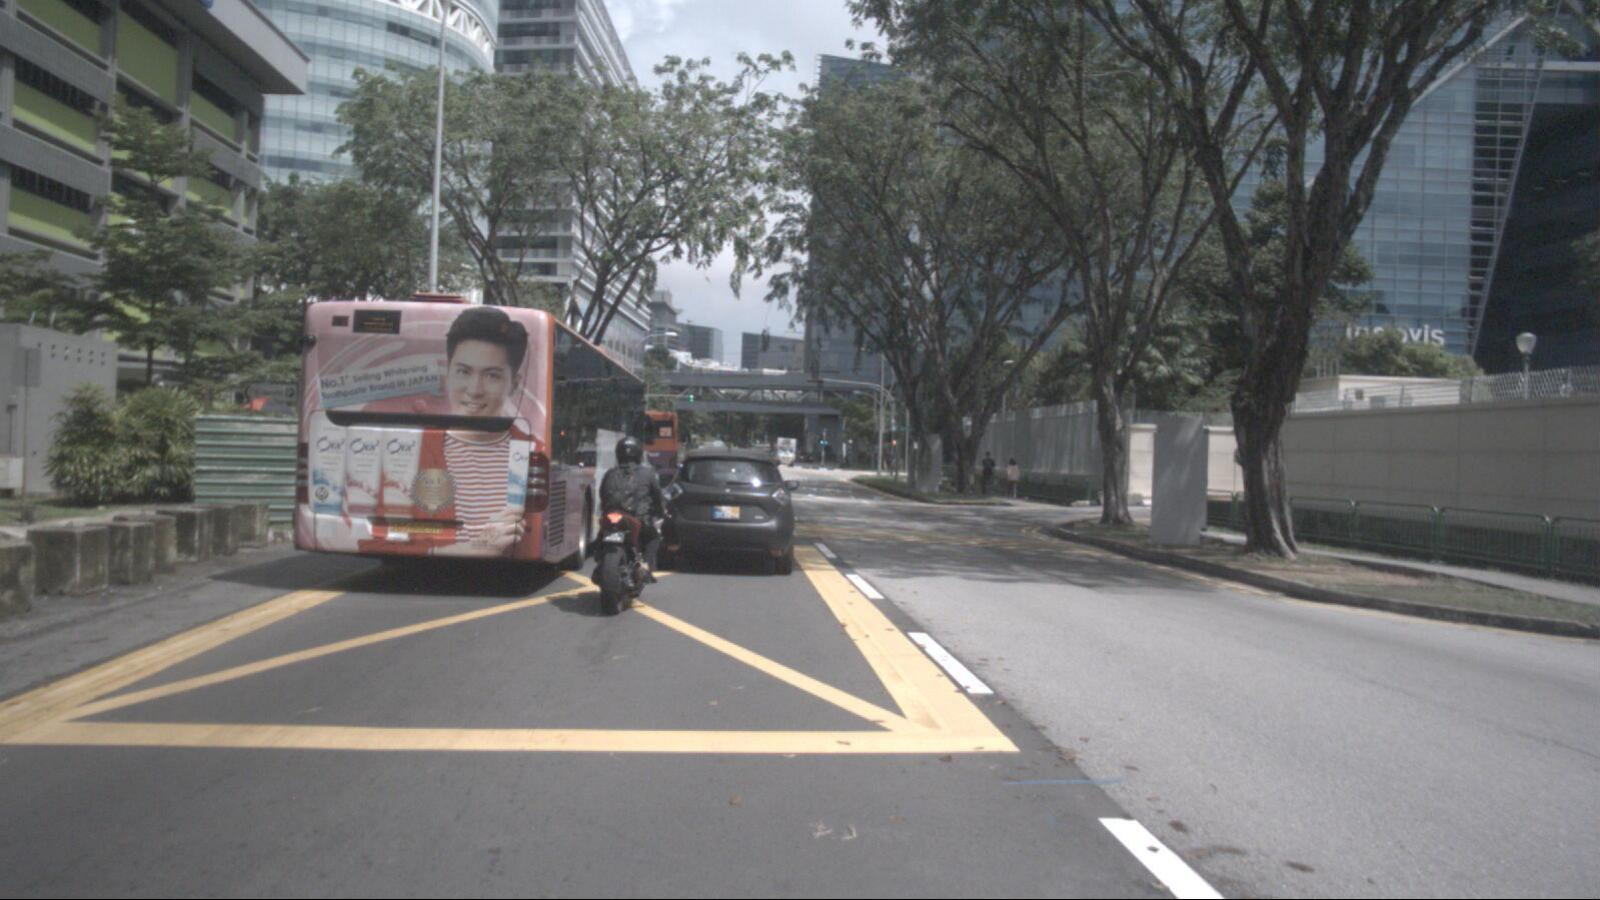human.pedestrian.adult-pedestrian.moving: (1004, 458, 1021, 501), (980, 451, 996, 496)
vehicle.motorcycle-cycle.with_rider: (592, 438, 671, 615)
